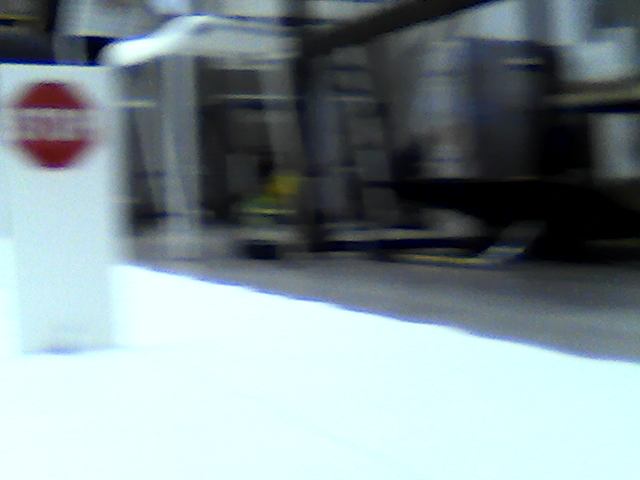Stop: (17, 81, 85, 157)
